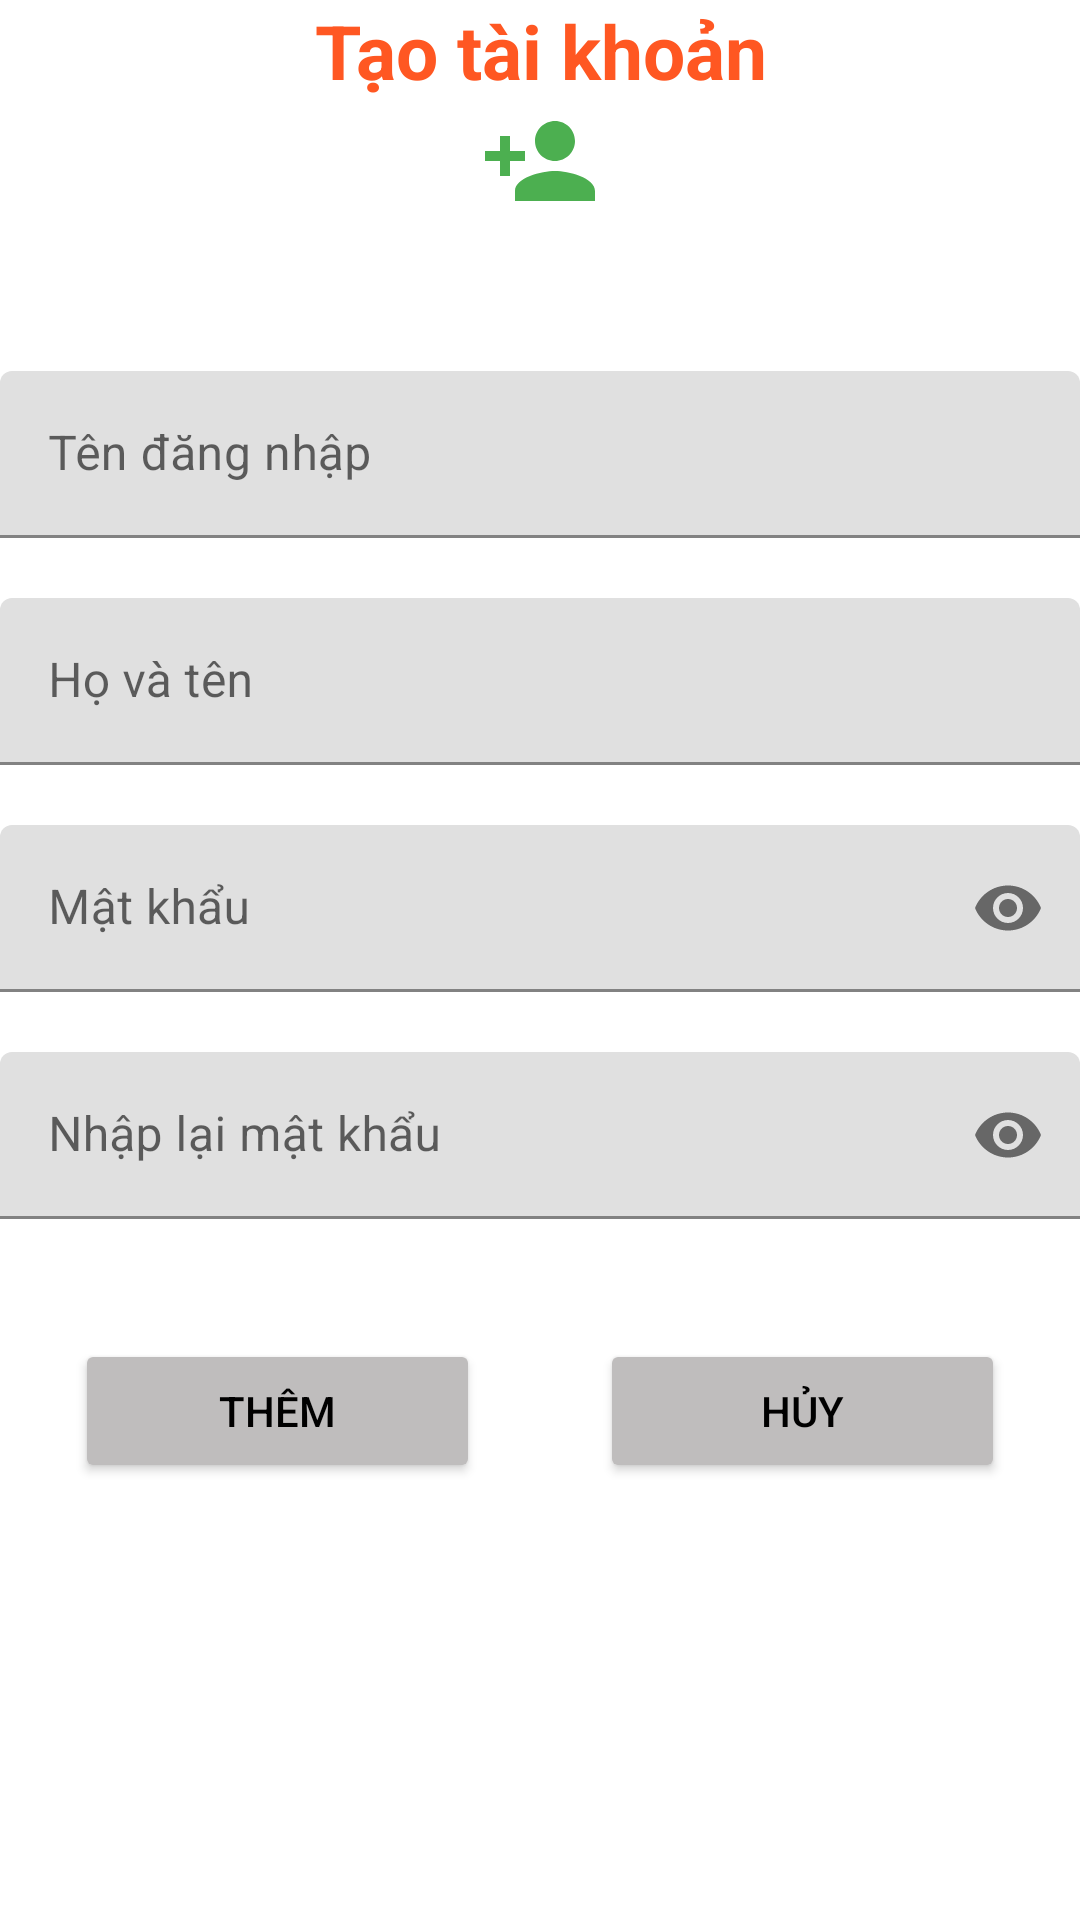

Where icons sit on this 1080 x 1920 app screen, as box(x1, y1, x2, y2):
add user: box(485, 121, 595, 201)
